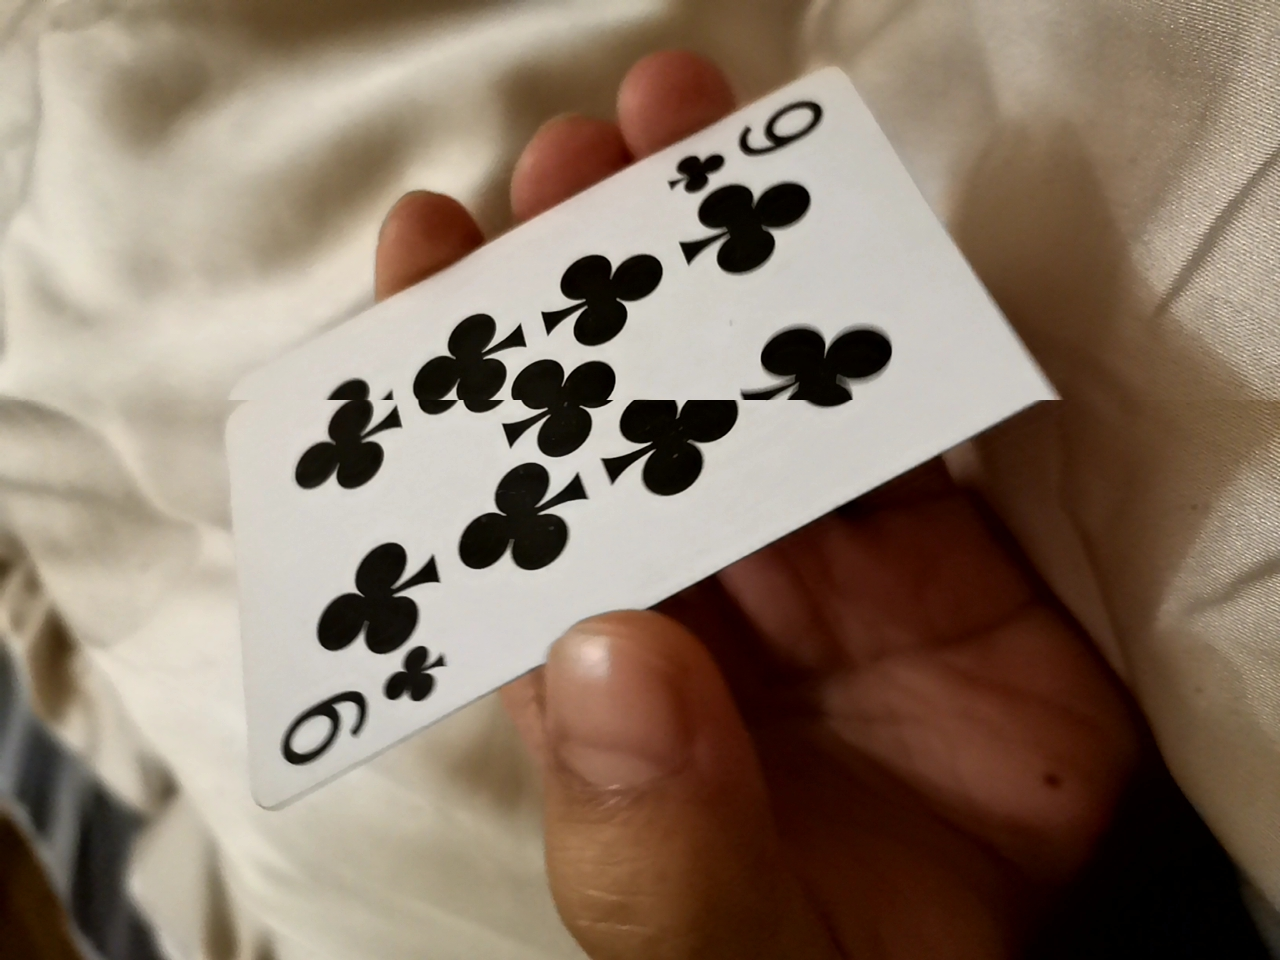mh 9: (176, 79, 1086, 770)
